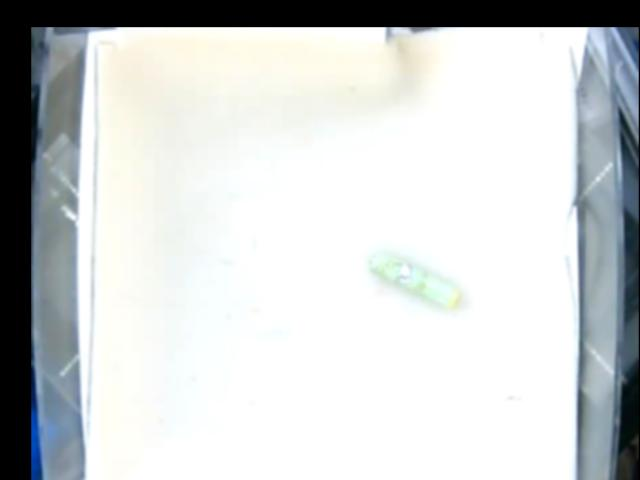Battery: (368, 251, 459, 307)
